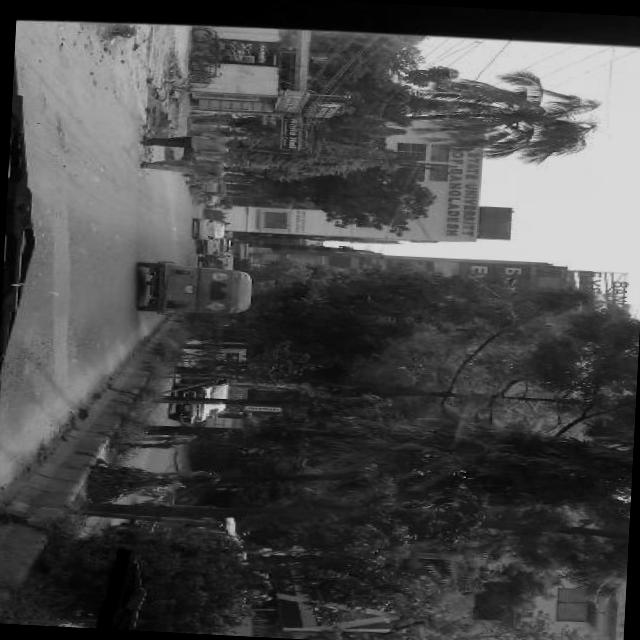car: (194, 218, 227, 239), (204, 238, 231, 254)
motorcycle: (140, 262, 256, 320), (112, 522, 242, 554)
truck: (170, 376, 232, 424)
